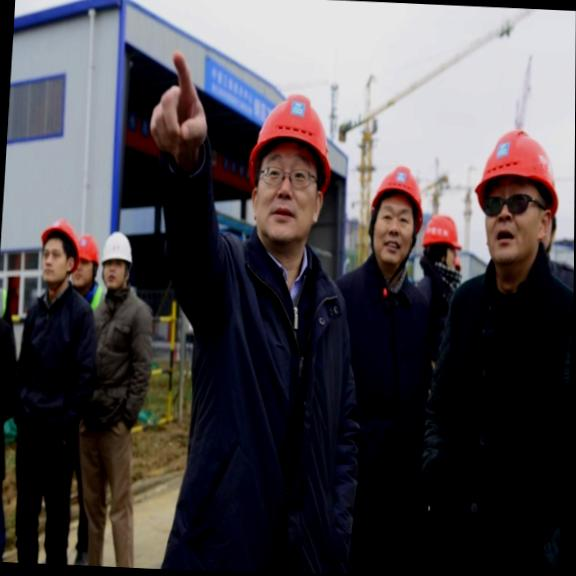no_safety_vest: (154, 221, 371, 575), (411, 255, 574, 573), (320, 254, 442, 574), (11, 287, 101, 434), (82, 289, 162, 432)
